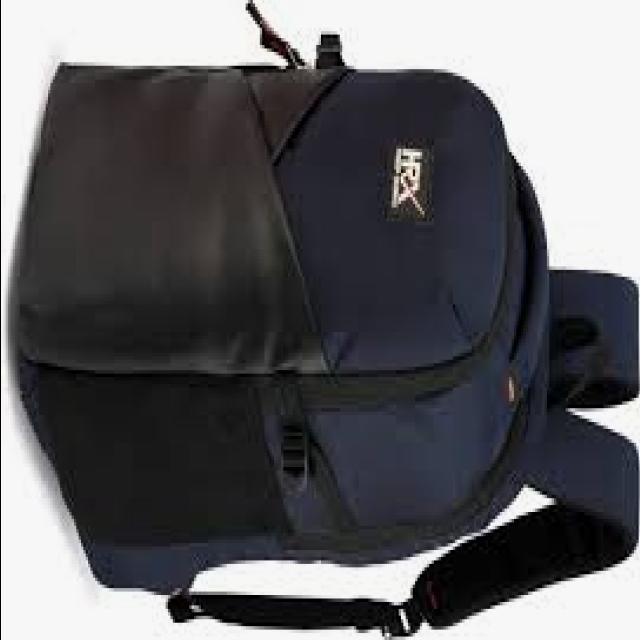backpack: (15, 2, 640, 638)
